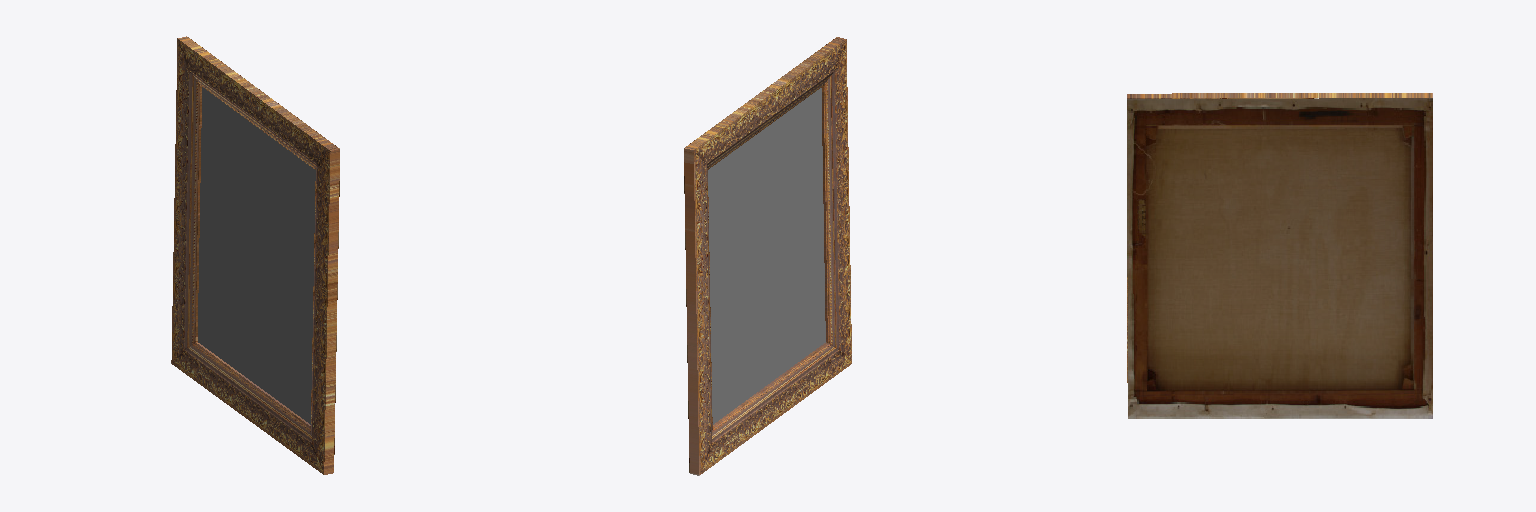
The picture shows the model from 3 angles: view 1: azimuth 30°, elevation 25°; view 2: azimuth 150°, elevation 25°; view 3: azimuth 270°, elevation 25°; orthographic projection.
Parts seen in each view (by area): view 1: Canvas, Frame; view 2: Canvas, Frame; view 3: Back, Frame.
Boxes of the visible parts, <box> form: Canvas: <box>198,87,315,424</box>; Frame: <box>171,36,339,474</box>; Canvas: <box>708,88,825,424</box>; Frame: <box>684,37,851,475</box>; Back: <box>1127,98,1432,418</box>; Frame: <box>1127,93,1432,382</box>.
Size of the model in its own units: 2.72 by 52.78 by 45.21.
Materials: 3 (2 with a texture image).